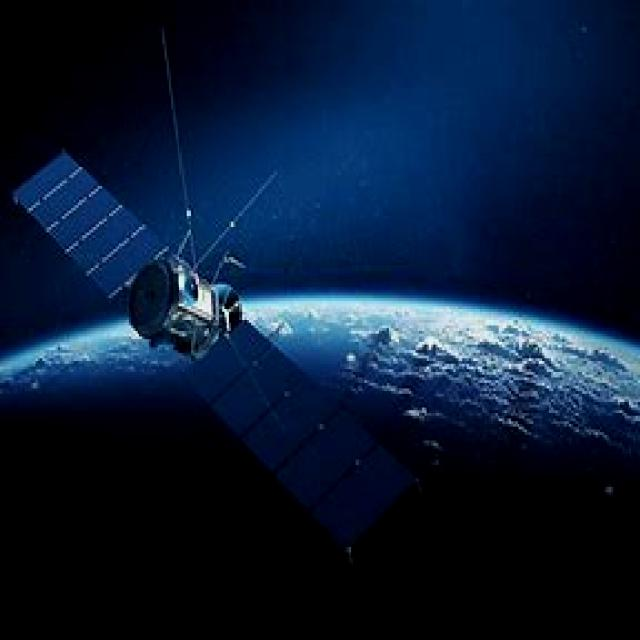satellite: (6, 133, 429, 571)
